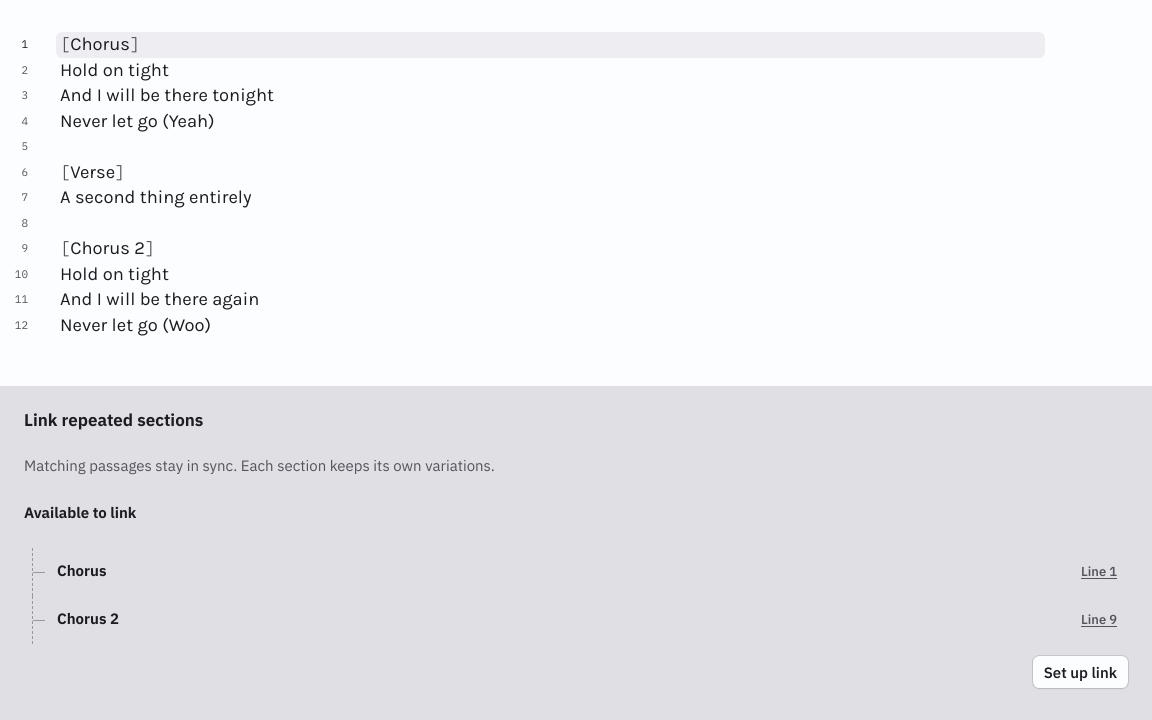
Linking panel with the real editor › refuses a reviewed choice if the editor has newer text than the shell snapshot
Click the button with aria-label "Set up link Chorus, Chorus 2" at (1080, 672), box [1033,656,1128,688]
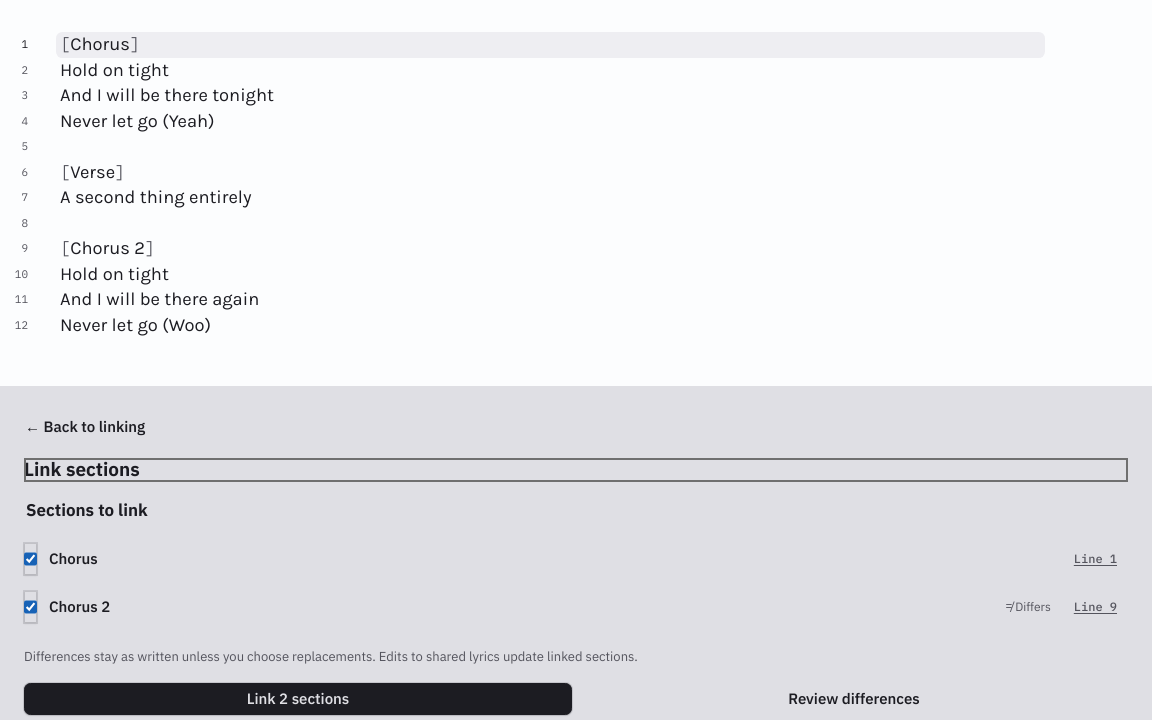
Now the checkbox labelled "Chorus 2" is checked, box [24,591,37,623]
Now the checkbox labelled "Chorus 2" is enabled, box [24,591,37,623]
Now the text "This section" is gone
Click the button "Review differences" at (854, 699), box [580,683,1128,715]
(page scrolled)
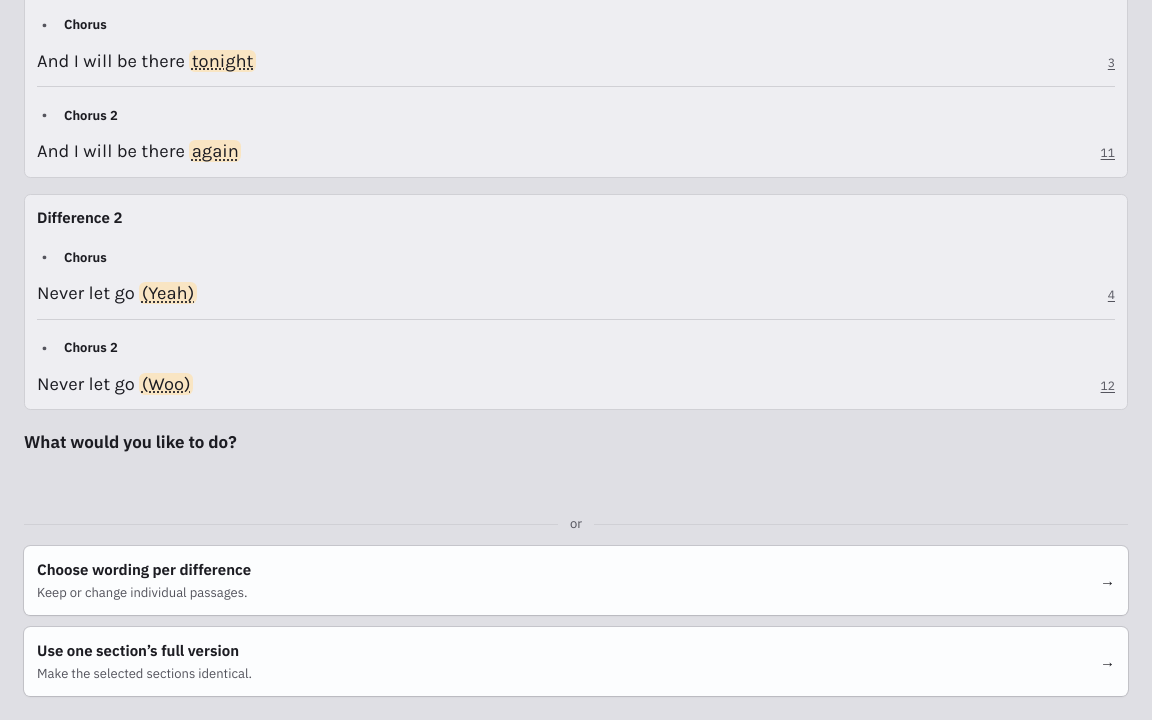
Click the button "Choose wording per difference" at (144, 569), box [24,546,1128,615]
(page scrolled)
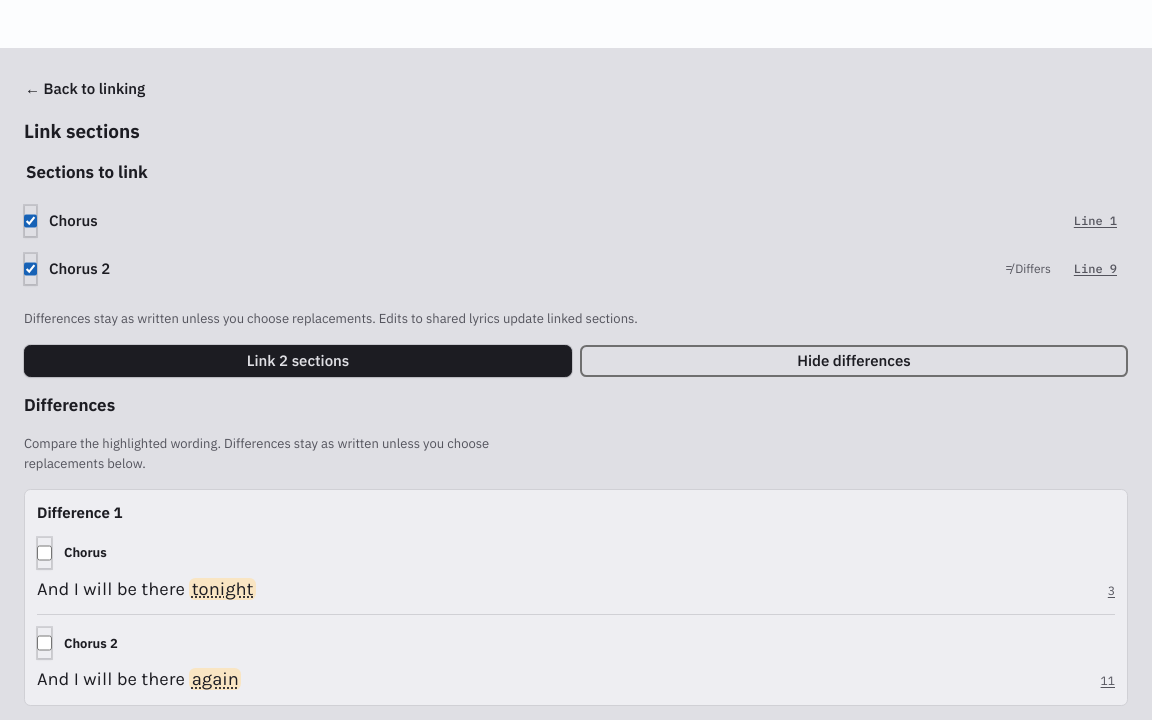
Click the checkbox named "Use Chorus 2 wording for difference 1 in all 2 sections" at (44, 643), box [37,627,52,659]
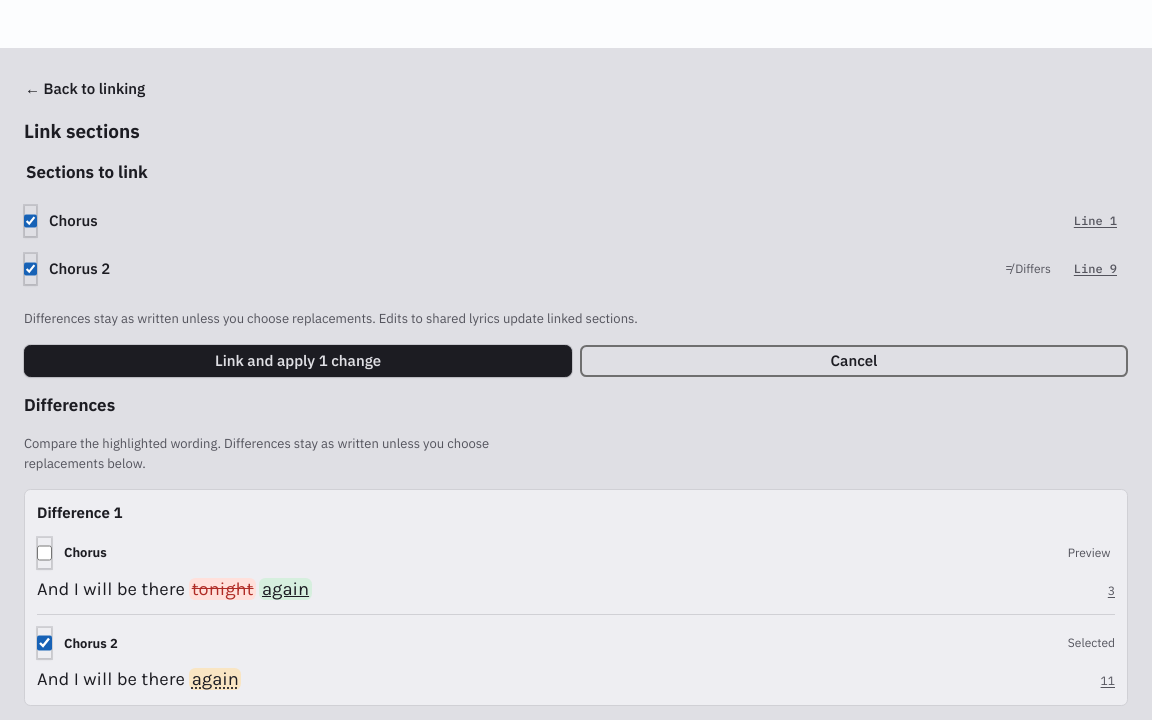
Click the button "Link and apply 1 change" at (298, 361), box [24,345,572,377]
(page scrolled)
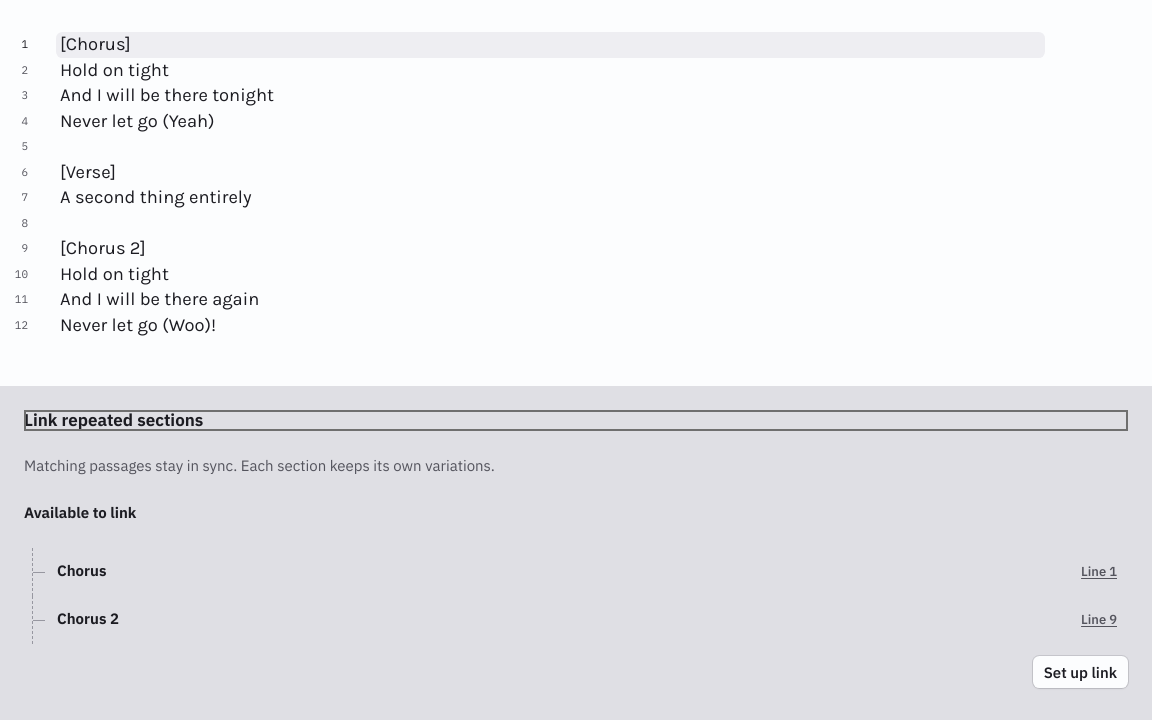
Now the heading "Link repeated sections" is shown, box [24,409,203,431]
